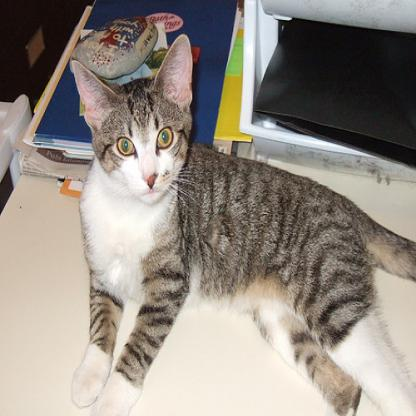cat: (70, 32, 415, 415)
